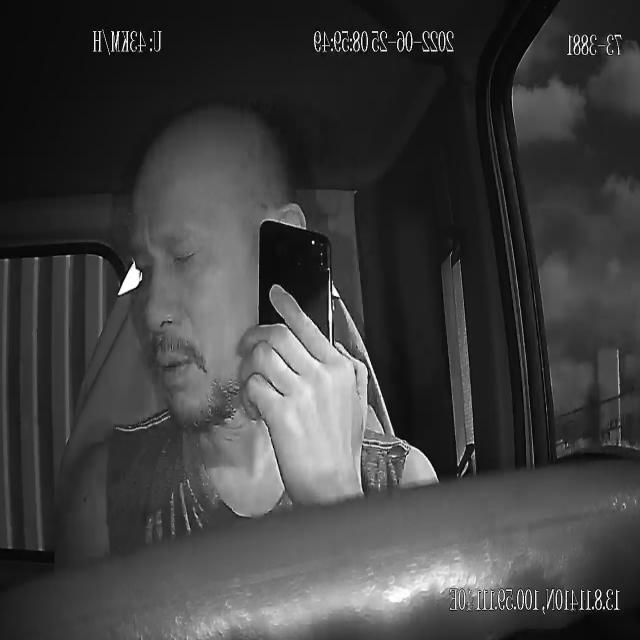phone: (257, 211, 336, 415)
